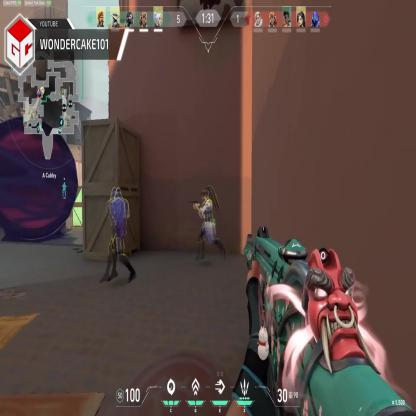enemy: (106, 182, 137, 284), (197, 184, 225, 264)
enemy_head: (115, 188, 122, 200), (203, 188, 209, 200)
